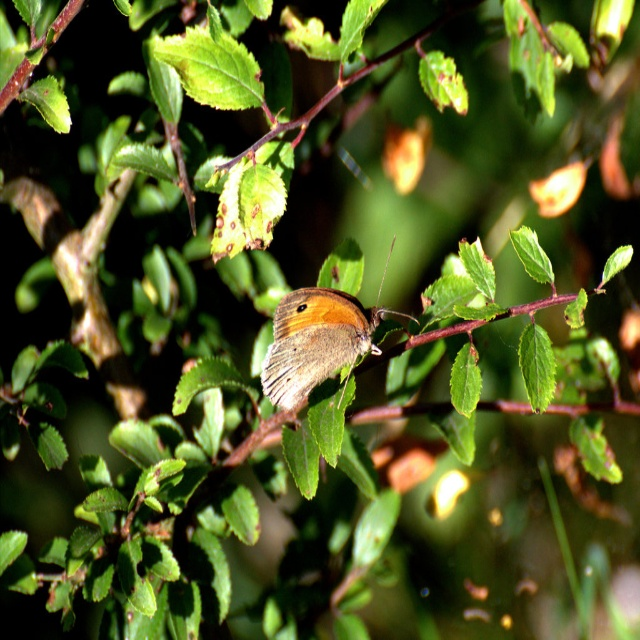Butterfly: (257, 270, 403, 432)
